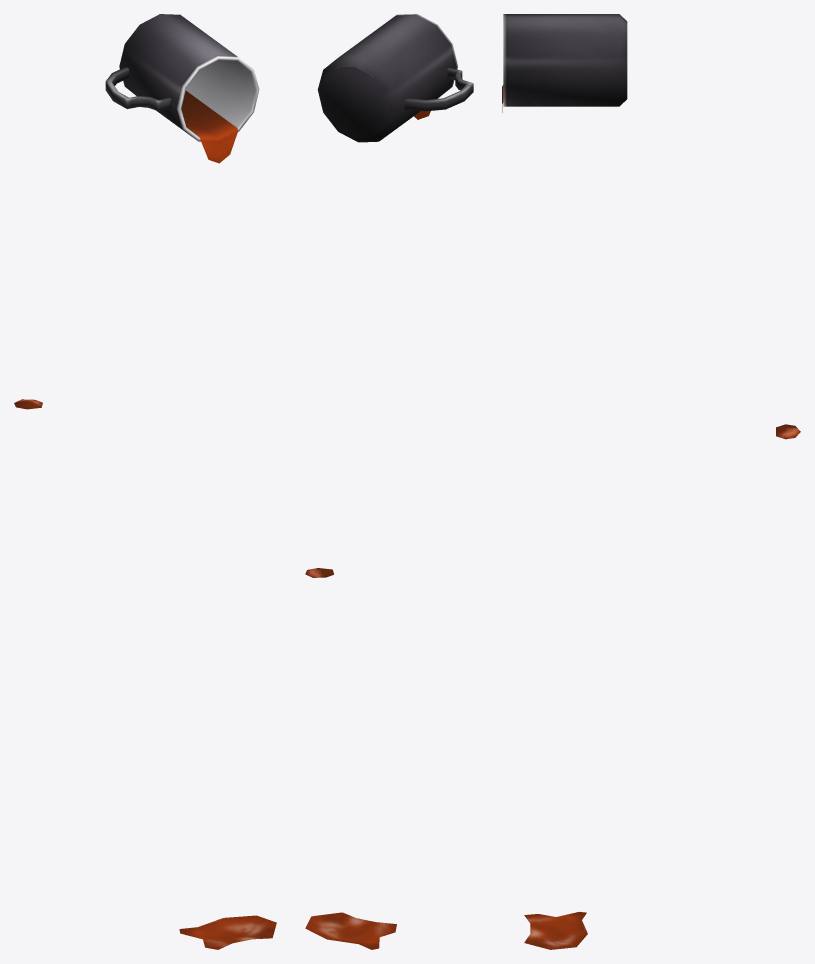
File: PiErSenGongYu_01_makebei_01.FBX
The picture shows the model from 3 angles, left to right: view 1: azimuth 30°, elevation 25°; view 2: azimuth 150°, elevation 25°; view 3: azimuth 270°, elevation 25°; orthographic projection.
Parts seen in each view (by area): view 1: PiErSenDeGongYu_makebei_01; view 2: PiErSenDeGongYu_makebei_01; view 3: PiErSenDeGongYu_makebei_01.
Part boxes in pixels (box(x1,y1,x2,y2)): PiErSenDeGongYu_makebei_01: box(14, 14, 276, 949); PiErSenDeGongYu_makebei_01: box(305, 14, 473, 949); PiErSenDeGongYu_makebei_01: box(502, 14, 800, 949).
Size of the model in its own units: 64.73 by 355 by 107.
